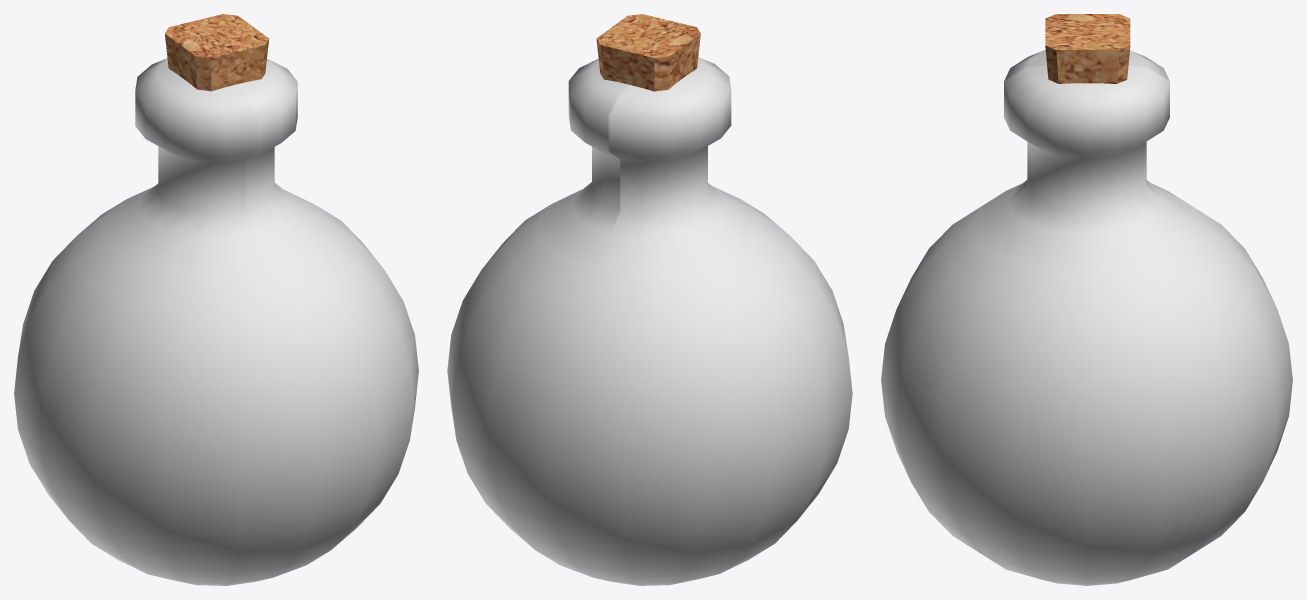
File: Potion04_Red.fbx
3 renders of one model, left to right at view 1: azimuth 30°, elevation 25°; view 2: azimuth 150°, elevation 25°; view 3: azimuth 270°, elevation 25°, orthographic.
Visible parts, largest first — view 1: Sphere, Cube.002; view 2: Sphere, Cube.002; view 3: Sphere, Cube.002.
Boxes of the visible parts, x1=… form: Sphere: x1=14, y1=58, x2=418, y2=585; Cube.002: x1=165, y1=14, x2=268, y2=91; Sphere: x1=447, y1=57, x2=852, y2=585; Cube.002: x1=596, y1=14, x2=700, y2=91; Sphere: x1=881, y1=50, x2=1292, y2=585; Cube.002: x1=1045, y1=14, x2=1130, y2=83.
Bounding box in the file's own units: 1.71 × 2.45 × 1.71.
